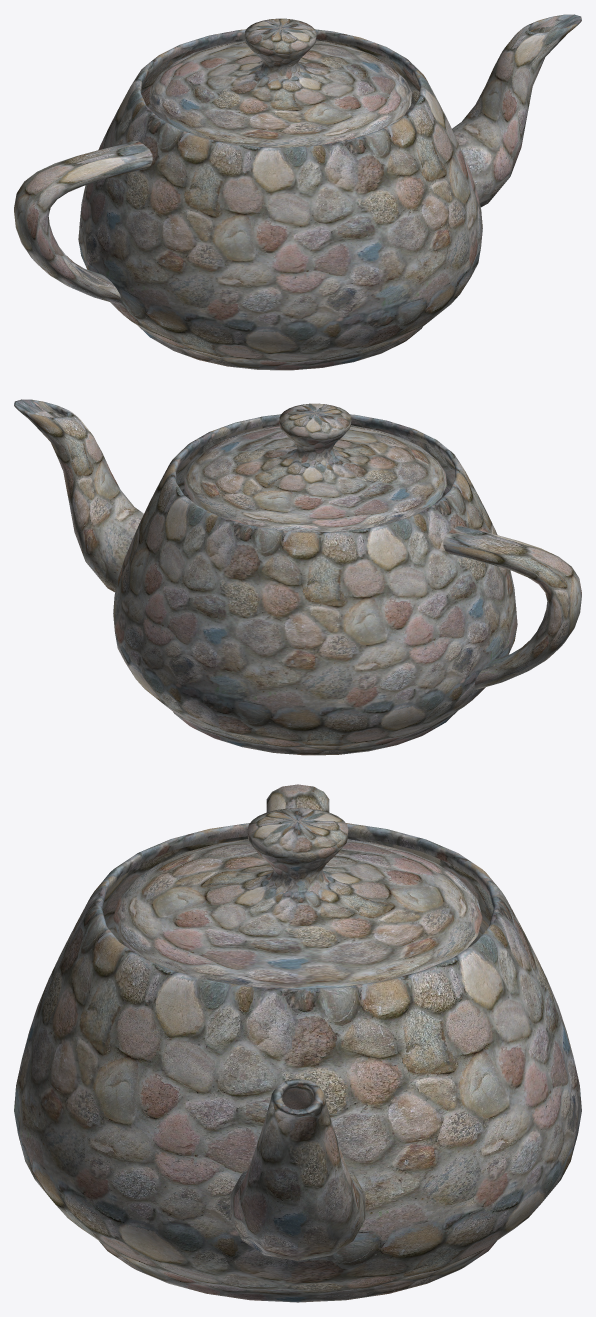
File: teapot2.obj
The picture shows the model from 3 angles, top to bottom: view 1: azimuth 30°, elevation 25°; view 2: azimuth 150°, elevation 25°; view 3: azimuth 270°, elevation 25°; orthographic projection. The views are drawn at different scales.
Parts seen in each view (by area): view 1: Teapot001; view 2: Teapot001; view 3: Teapot001.
Part boxes in pixels (<box>): Teapot001: <box>14,14,581,370</box>; Teapot001: <box>14,399,581,755</box>; Teapot001: <box>14,784,581,1302</box>.
Bounding box in the file's own units: 63.45 × 31.07 × 39.45.
1 material, 1 textured.
